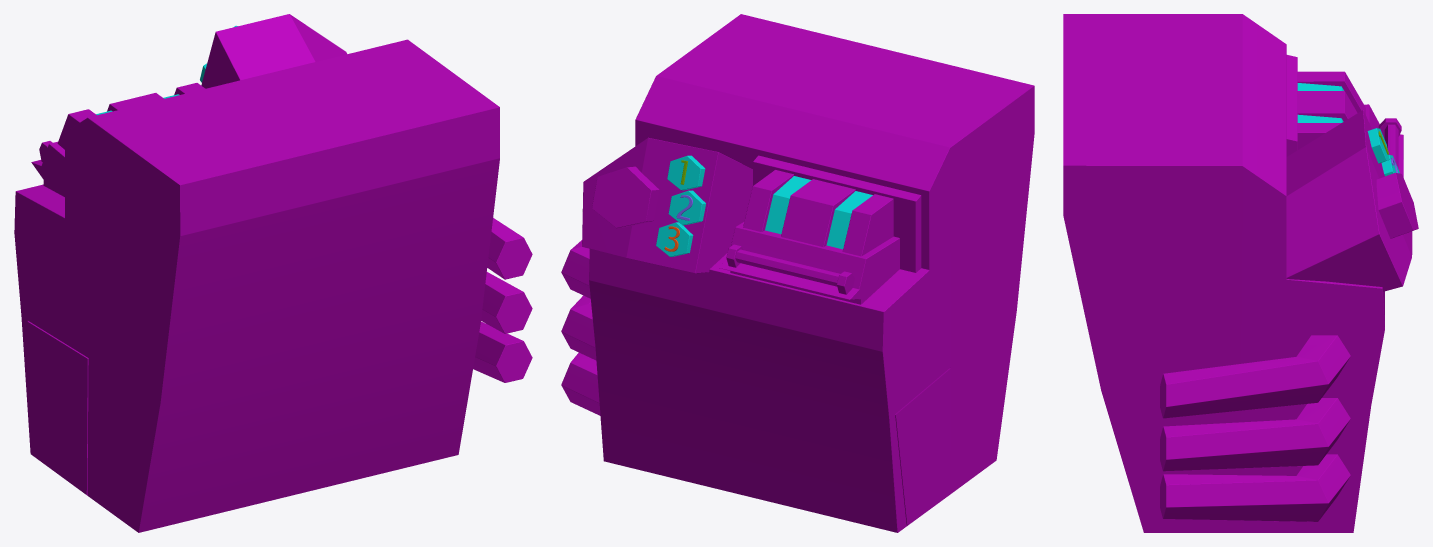
Rendered from AST_inputTerminal_title.fbx.
3 views of the same model, side by side, from view 1: azimuth 30°, elevation 25°; view 2: azimuth 150°, elevation 25°; view 3: azimuth 270°, elevation 25° (orthographic). The views are drawn at different scales.
Parts seen in each view (by area): view 1: MSH_inputTerminal_title; view 2: MSH_inputTerminal_title; view 3: MSH_inputTerminal_title.
Boxes of the visible parts, bbox=[...] form: MSH_inputTerminal_title: bbox=[14, 14, 532, 532]; MSH_inputTerminal_title: bbox=[561, 14, 1034, 532]; MSH_inputTerminal_title: bbox=[1063, 14, 1418, 532].
Size of the model in its own units: 125 by 111 by 97.53.
